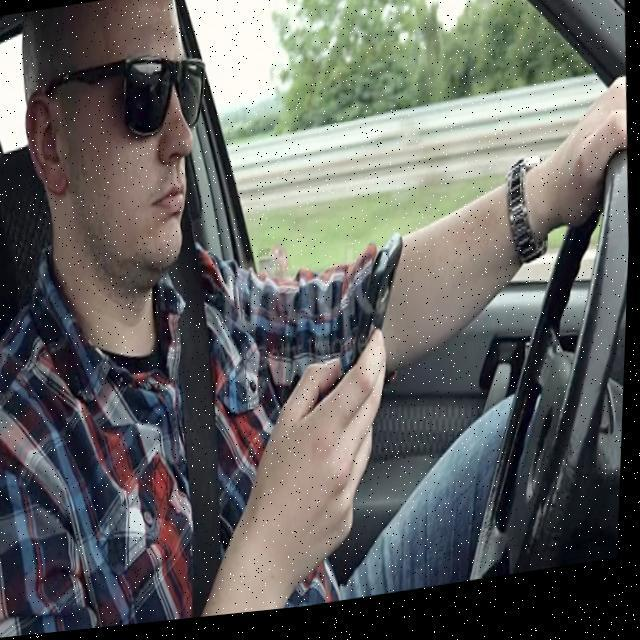PhoneCall: (352, 242, 411, 380)
